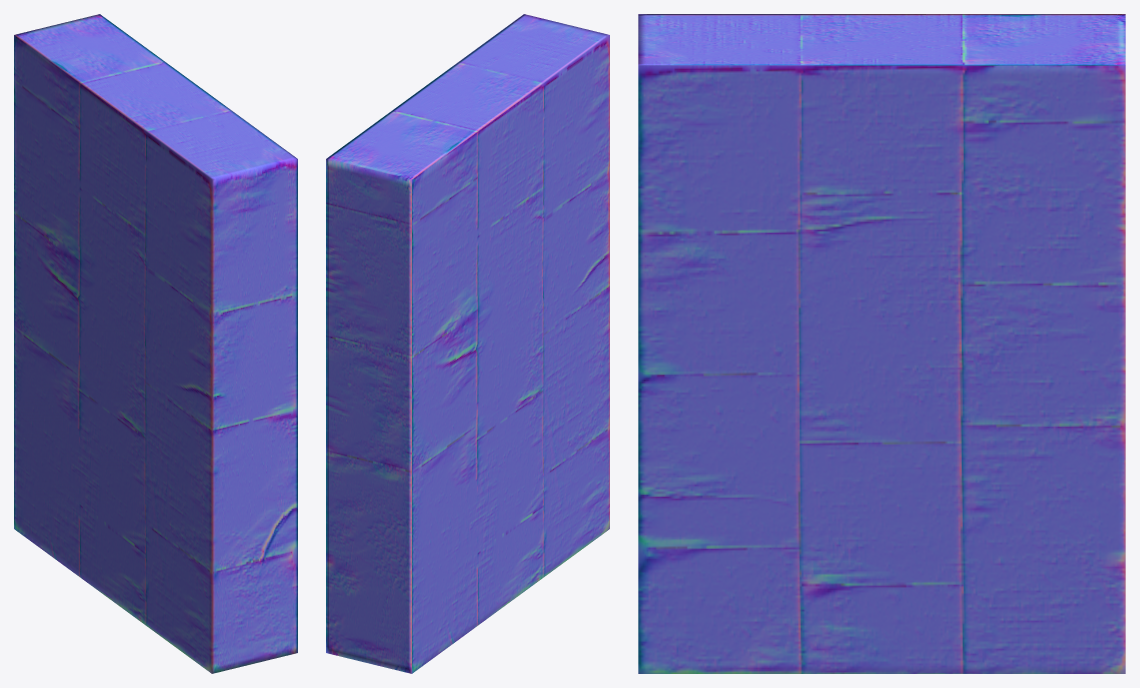
The model's file is Brick_wall_lo36_2.fbx.
3 renders of one model, left to right at view 1: azimuth 30°, elevation 25°; view 2: azimuth 150°, elevation 25°; view 3: azimuth 270°, elevation 25°, orthographic. The views are drawn at different scales.
Parts seen in each view (by area): view 1: Brick_wall_lo36_2; view 2: Brick_wall_lo36_2; view 3: Brick_wall_lo36_2.
Part boxes in pixels (x1,y1,x2,y2): Brick_wall_lo36_2: (14,14,297,673); Brick_wall_lo36_2: (326,14,609,673); Brick_wall_lo36_2: (638,14,1125,673).
Size of the model in its own units: 75.74 by 416 by 302.
